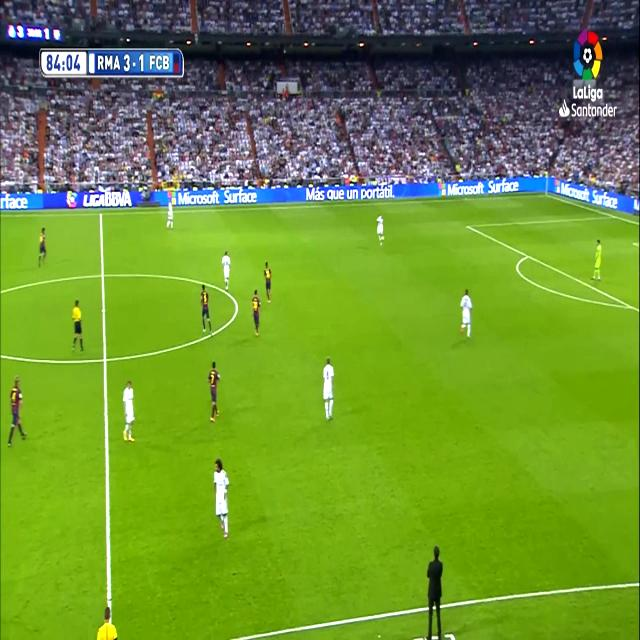corner: (542, 189, 550, 200)
halfcircle_bottom: (99, 345, 111, 372)
halfcircle_top: (97, 263, 108, 286)
midline_top_intersection: (97, 208, 105, 221)
top_arc_area_intersection: (523, 248, 531, 262)
